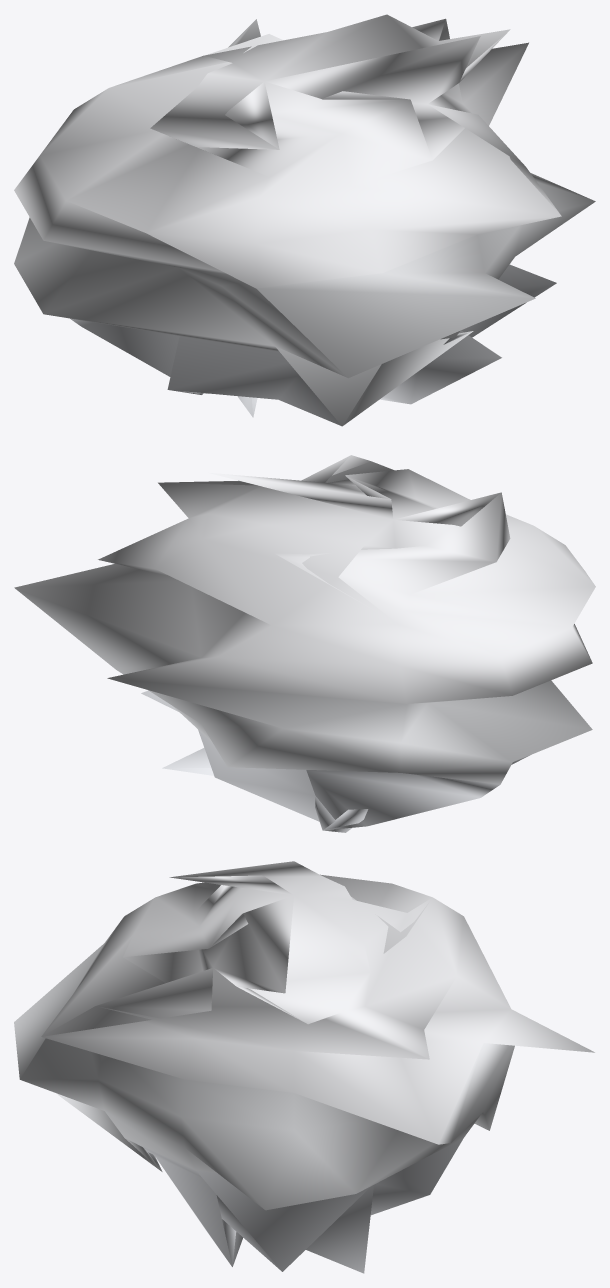
File: bush-60_col.fbx
3 renders of one model, top to bottom at view 1: azimuth 30°, elevation 25°; view 2: azimuth 150°, elevation 25°; view 3: azimuth 270°, elevation 25°, orthographic. The views are drawn at different scales.
Visible parts, largest first — view 1: bush-60.col; view 2: bush-60.col; view 3: bush-60.col.
Part boxes in pixels (left/top/right/bottom): bush-60.col: left=14, top=14, right=595, bottom=426; bush-60.col: left=14, top=455, right=595, bottom=832; bush-60.col: left=14, top=861, right=594, bottom=1273.
Bounding box in the file's own units: 0.0769 × 0.0434 × 0.0742.
Materials: 1 (1 with a texture image).
